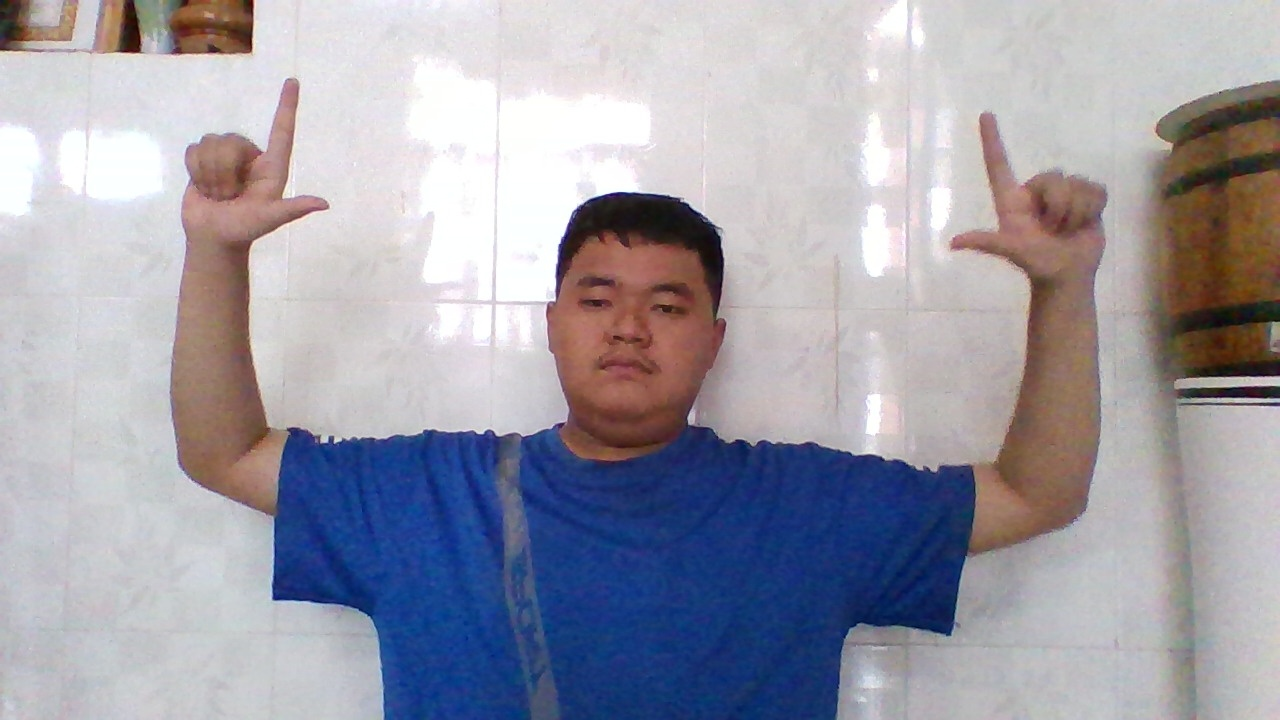L: (939, 101, 1114, 288), (175, 67, 337, 251)
